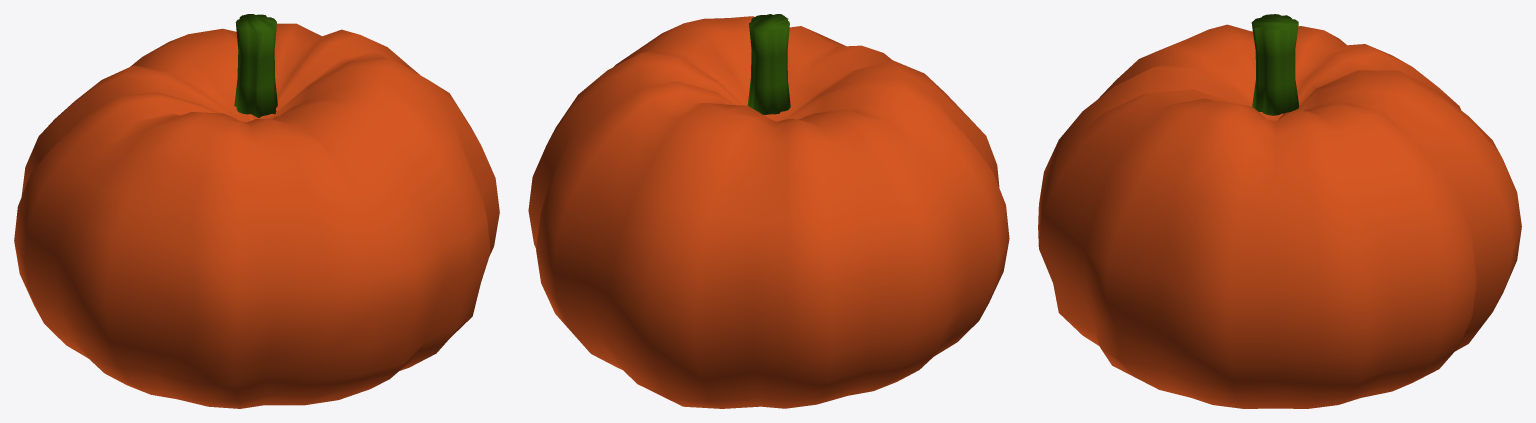
Rendered from Pumpkins02- Halloween.fbx.
3 renders of one model, left to right at view 1: azimuth 30°, elevation 25°; view 2: azimuth 150°, elevation 25°; view 3: azimuth 270°, elevation 25°, orthographic.
Parts seen in each view (by area): view 1: Pumpkin.001; view 2: Pumpkin.001; view 3: Pumpkin.001.
Boxes of the visible parts, x1,y1,x2,y2 form: Pumpkin.001: [14, 14, 499, 408]; Pumpkin.001: [528, 14, 1009, 408]; Pumpkin.001: [1038, 14, 1521, 408].
Size of the model in its own units: 146 by 114 by 146.
